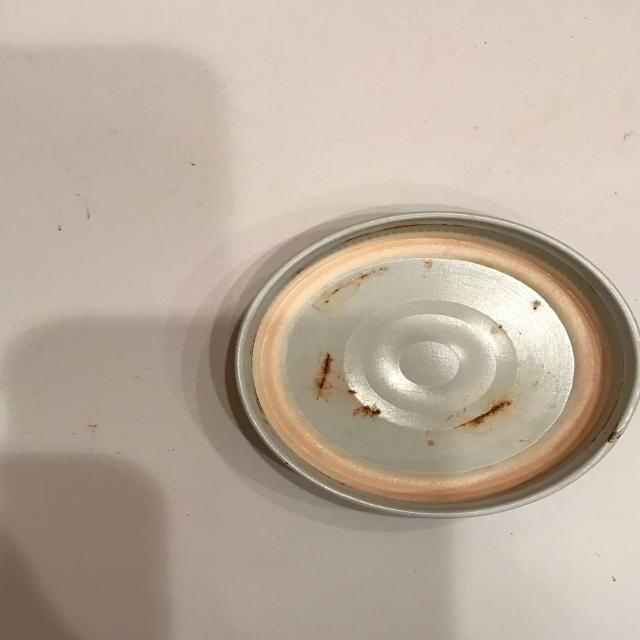metal: (233, 210, 640, 519)
